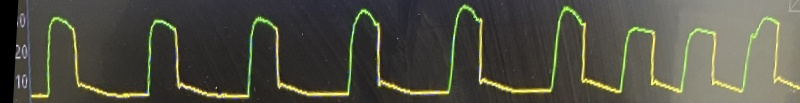normal_pressure: (36, 1, 797, 103)
